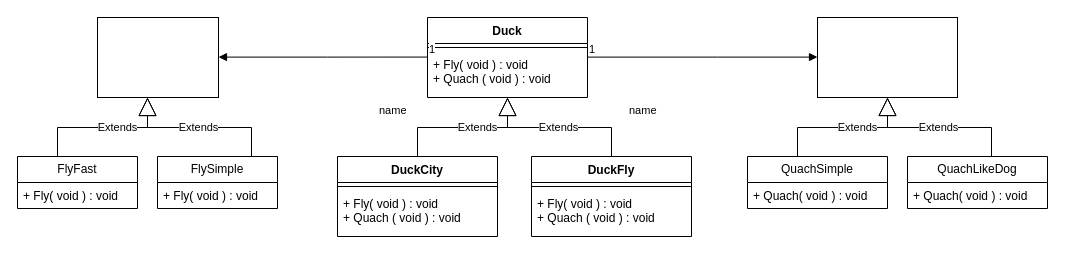
This 1065x257 diagram has some shape labels left out. The shapes that lost their labels are listed below. From the top down, each one's centre as x and y in pixels, then its label:
At point (157, 57): "<<Interface>> IFlyBehavior + Fly( void ) : void".
At point (887, 57): "<<Interface>> IQuachBehavior + Quach( void ) : void".
